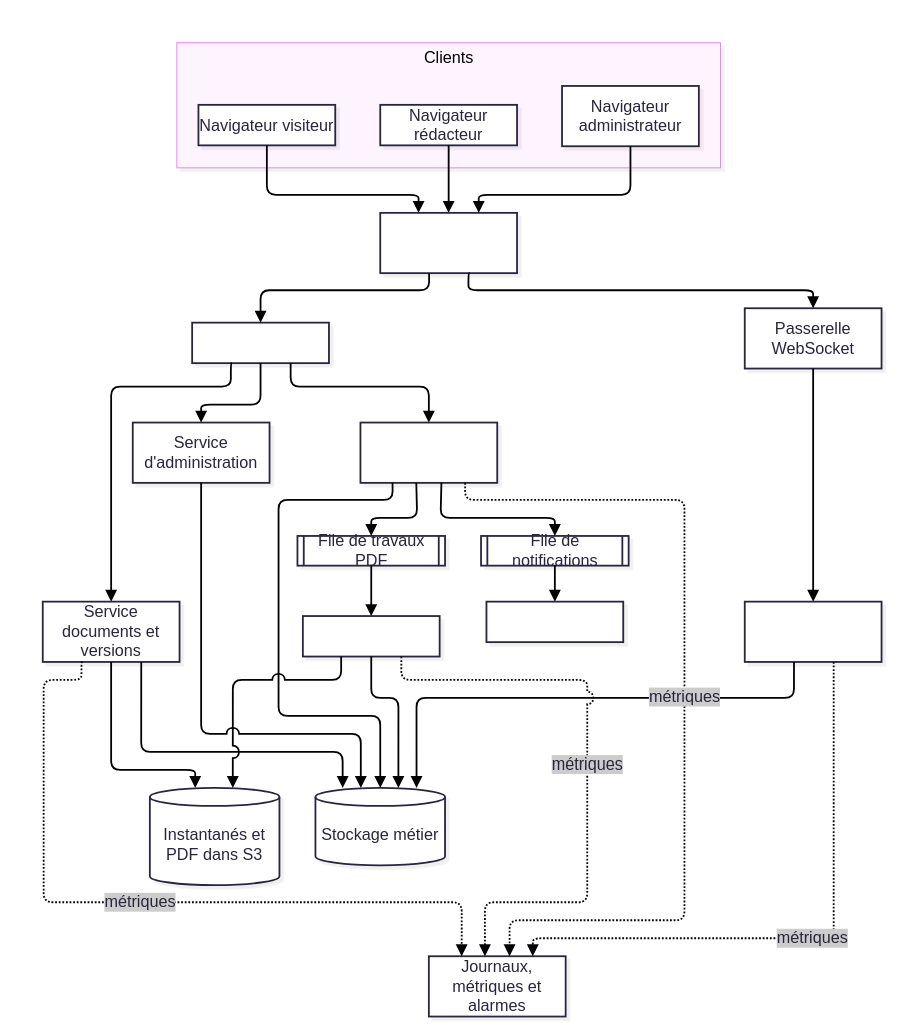
Image size: 901x1036. Some labels were removed from this diagram. The centre of each missing label's shape, as x and y in pixels:
"API HTTP" goes at (262,344).
"Application web statique" goes at (450,244).
"Générateur PDF" goes at (373,638).
"Service collaboratif CRDT" goes at (814,633).
"Service d'e-mail" goes at (556,623).
"Service de publication" goes at (430,454).
